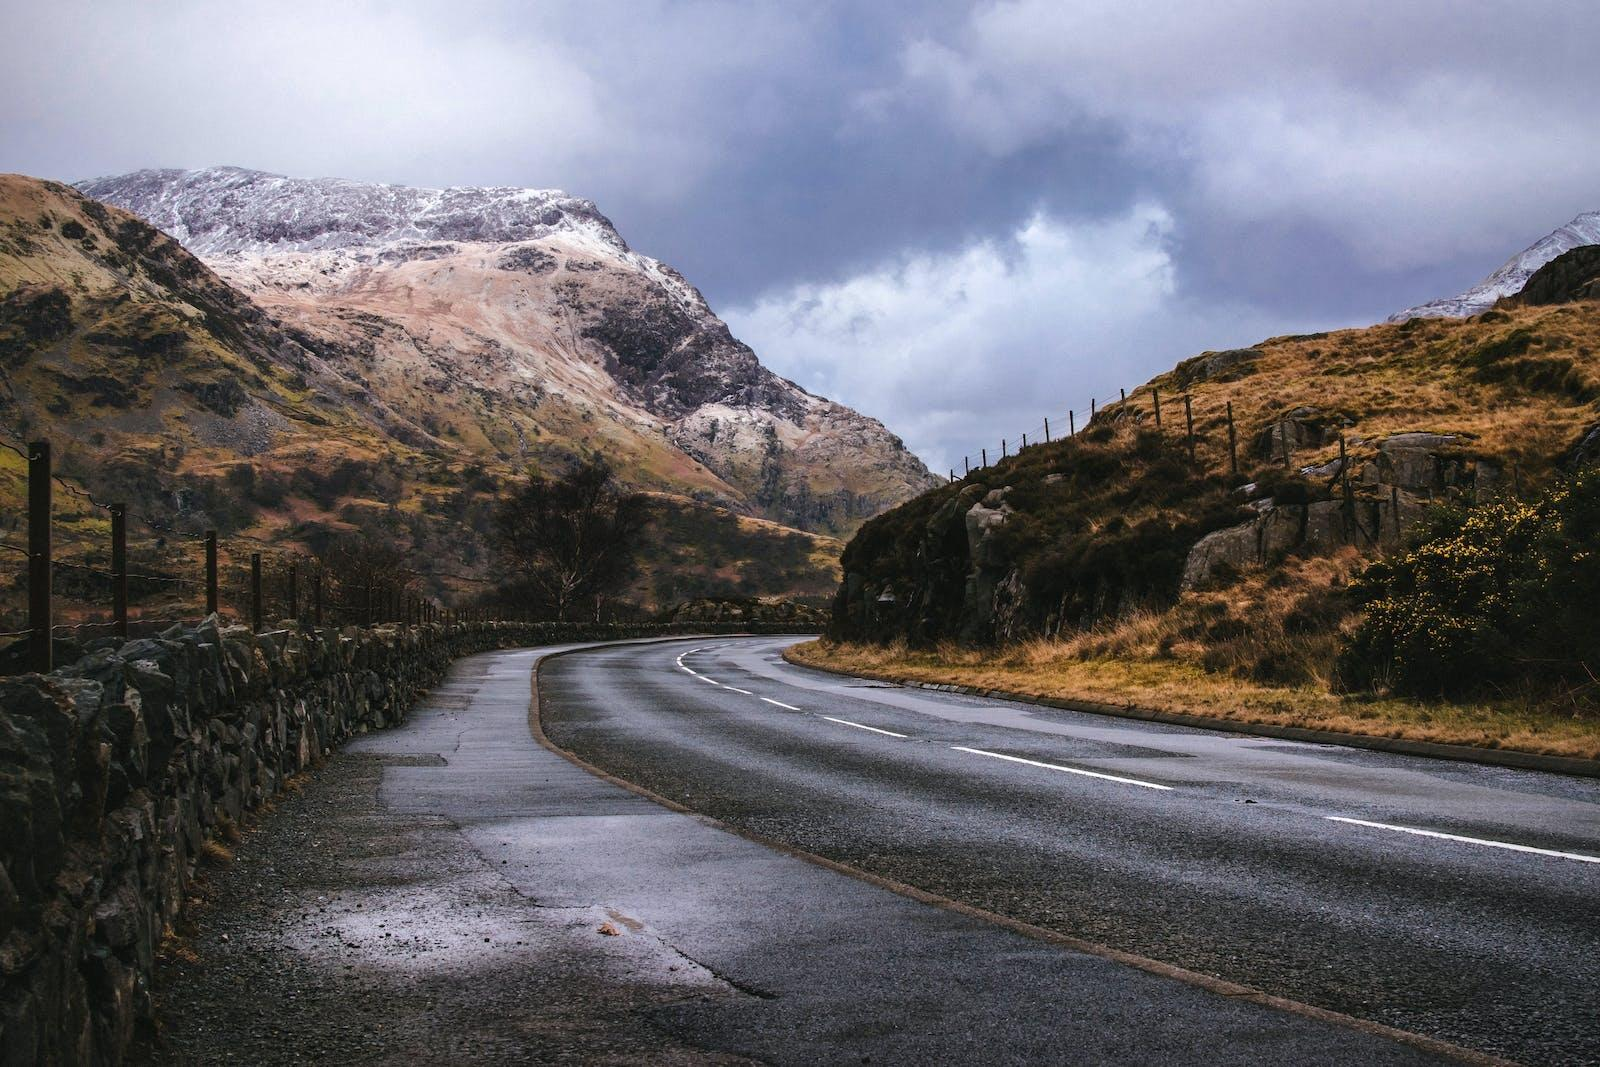field: (801, 248, 1599, 754)
road: (146, 638, 1599, 1063), (540, 639, 1599, 1063)
